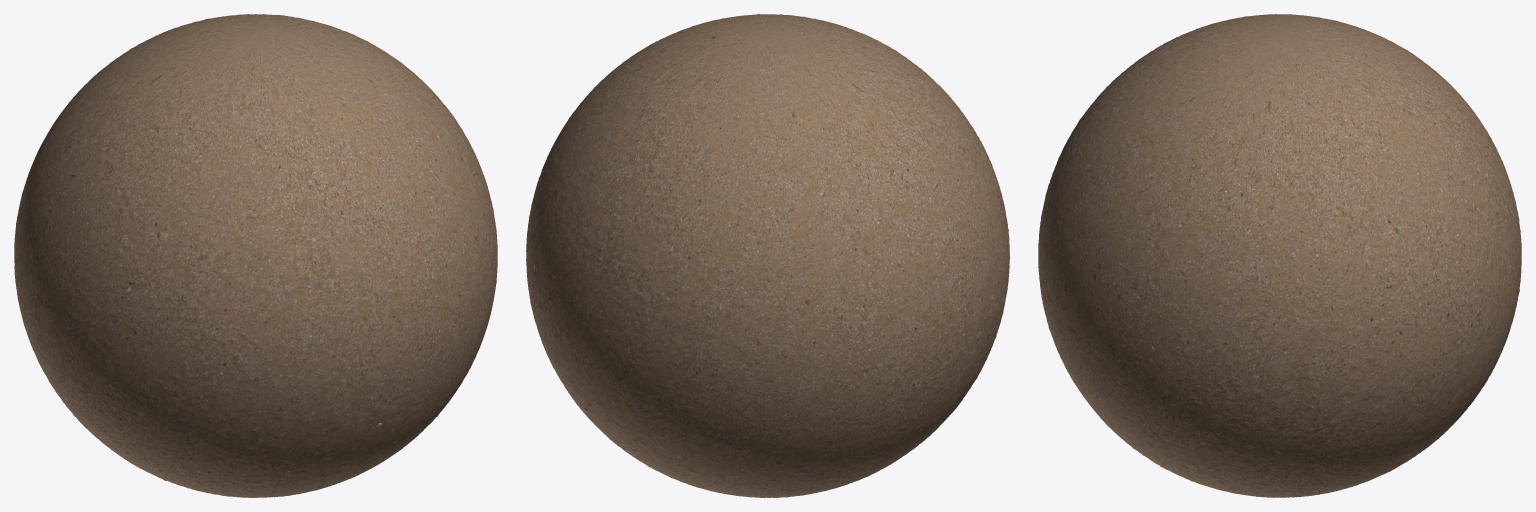
The model's file is gravel_floor_04_1k.gltf.
The picture shows the model from 3 angles, left to right: view 1: azimuth 30°, elevation 25°; view 2: azimuth 150°, elevation 25°; view 3: azimuth 270°, elevation 25°; orthographic projection.
Parts seen in each view (by area): view 1: sphere_gltf; view 2: sphere_gltf; view 3: sphere_gltf.
Part boxes in pixels (x1=…): sphere_gltf: x1=14, y1=14, x2=497, y2=497; sphere_gltf: x1=526, y1=14, x2=1009, y2=497; sphere_gltf: x1=1038, y1=14, x2=1521, y2=497.
Size of the model in its own units: 2.46 by 2.46 by 2.46.
1 material, 1 textured.
